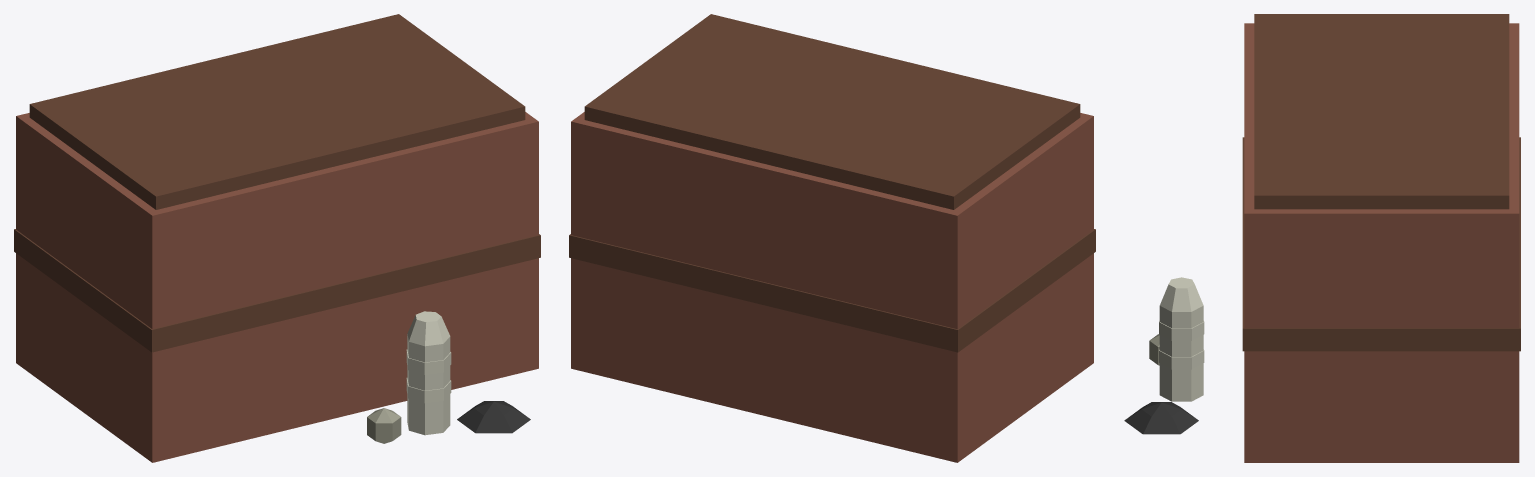
The model's file is ce_ammo2_paper_musket_c.obj.
3 renders of one model, left to right at view 1: azimuth 30°, elevation 25°; view 2: azimuth 150°, elevation 25°; view 3: azimuth 270°, elevation 25°, orthographic.
Visible parts, largest first — view 1: ce_ammo2_paper_musket_c_0, ce_ammo2_paper_musket_c_1, ce_ammo2_paper_musket_c_2, ce_ammo2_paper_musket_c_10, ce_ammo2_paper_musket_c_3, ce_ammo2_paper_musket_c_8, ce_ammo2_paper_musket_c_9, ce_ammo2_paper_musket_c_7, ce_ammo2_paper_musket_c_5, ce_ammo2_paper_musket_c_6, ce_ammo2_paper_musket_c_4; view 2: ce_ammo2_paper_musket_c_0, ce_ammo2_paper_musket_c_1, ce_ammo2_paper_musket_c_2; view 3: ce_ammo2_paper_musket_c_0, ce_ammo2_paper_musket_c_1, ce_ammo2_paper_musket_c_2, ce_ammo2_paper_musket_c_10, ce_ammo2_paper_musket_c_3, ce_ammo2_paper_musket_c_8, ce_ammo2_paper_musket_c_7, ce_ammo2_paper_musket_c_5, ce_ammo2_paper_musket_c_4, ce_ammo2_paper_musket_c_6.
Boxes of the visible parts, left/top/right/bottom form: ce_ammo2_paper_musket_c_0: left=16, top=112, right=538, bottom=462; ce_ammo2_paper_musket_c_1: left=29, top=14, right=525, bottom=209; ce_ammo2_paper_musket_c_2: left=14, top=229, right=540, bottom=352; ce_ammo2_paper_musket_c_10: left=457, top=401, right=530, bottom=433; ce_ammo2_paper_musket_c_3: left=407, top=394, right=450, bottom=435; ce_ammo2_paper_musket_c_8: left=407, top=311, right=450, bottom=346; ce_ammo2_paper_musket_c_9: left=367, top=408, right=401, bottom=443; ce_ammo2_paper_musket_c_7: left=407, top=334, right=450, bottom=362; ce_ammo2_paper_musket_c_5: left=407, top=366, right=450, bottom=390; ce_ammo2_paper_musket_c_6: left=406, top=349, right=451, bottom=374; ce_ammo2_paper_musket_c_4: left=406, top=378, right=451, bottom=403; ce_ammo2_paper_musket_c_0: left=571, top=112, right=1093, bottom=462; ce_ammo2_paper_musket_c_1: left=584, top=14, right=1080, bottom=209; ce_ammo2_paper_musket_c_2: left=569, top=229, right=1095, bottom=352; ce_ammo2_paper_musket_c_0: left=1244, top=23, right=1519, bottom=462; ce_ammo2_paper_musket_c_1: left=1254, top=14, right=1509, bottom=209; ce_ammo2_paper_musket_c_2: left=1242, top=137, right=1520, bottom=351; ce_ammo2_paper_musket_c_10: left=1124, top=402, right=1198, bottom=434; ce_ammo2_paper_musket_c_3: left=1159, top=363, right=1203, bottom=401; ce_ammo2_paper_musket_c_8: left=1160, top=277, right=1203, bottom=311; ce_ammo2_paper_musket_c_7: left=1159, top=305, right=1203, bottom=328; ce_ammo2_paper_musket_c_5: left=1159, top=335, right=1203, bottom=356; ce_ammo2_paper_musket_c_4: left=1159, top=349, right=1204, bottom=369; ce_ammo2_paper_musket_c_6: left=1159, top=321, right=1204, bottom=340.
Bounding box in the file's own units: 0.906 × 0.58 × 0.793.
